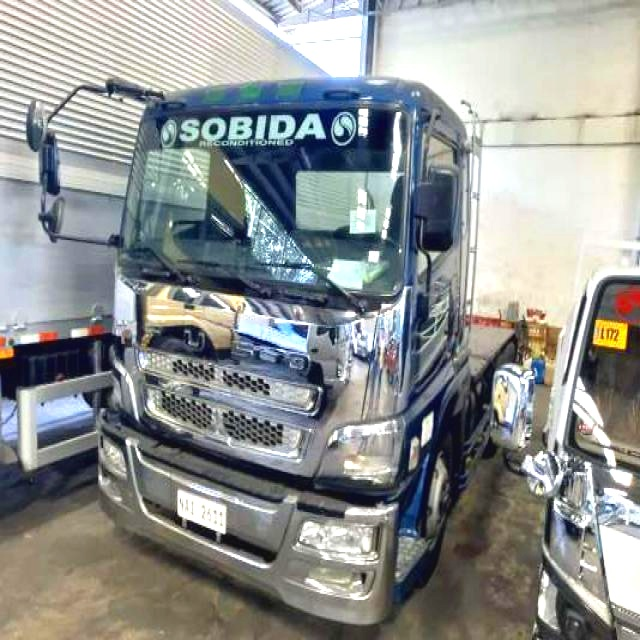truck: (13, 33, 503, 623)
